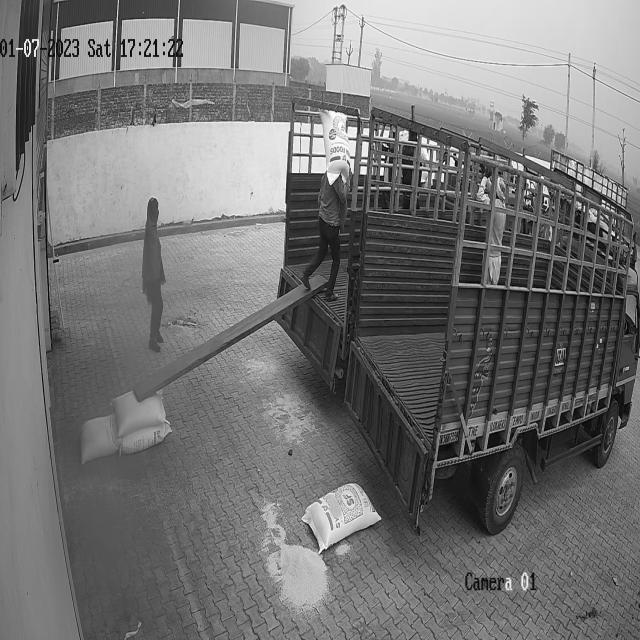sack: (301, 482, 382, 556), (110, 388, 165, 437), (318, 106, 350, 186), (79, 413, 116, 462), (120, 421, 172, 454)
